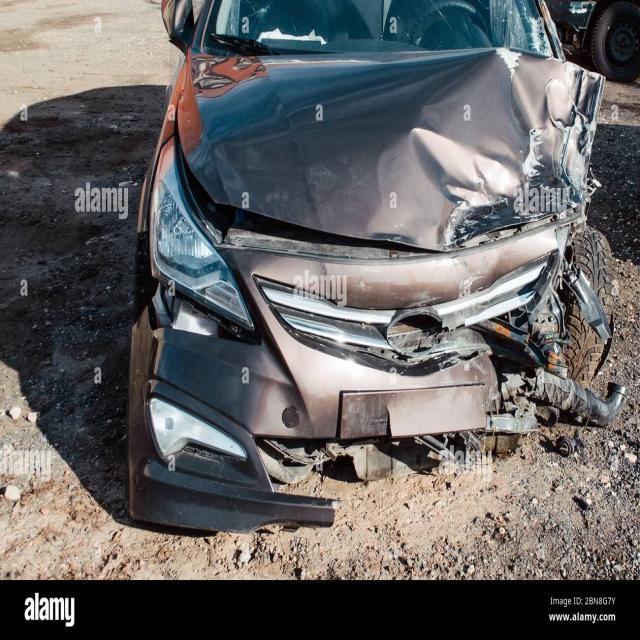crush: (127, 0, 628, 532)
